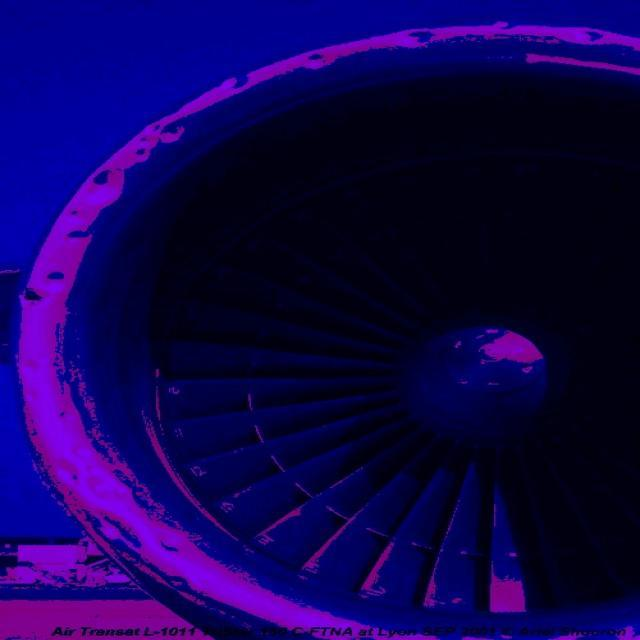dent: (92, 508, 205, 601), (69, 165, 126, 208)
